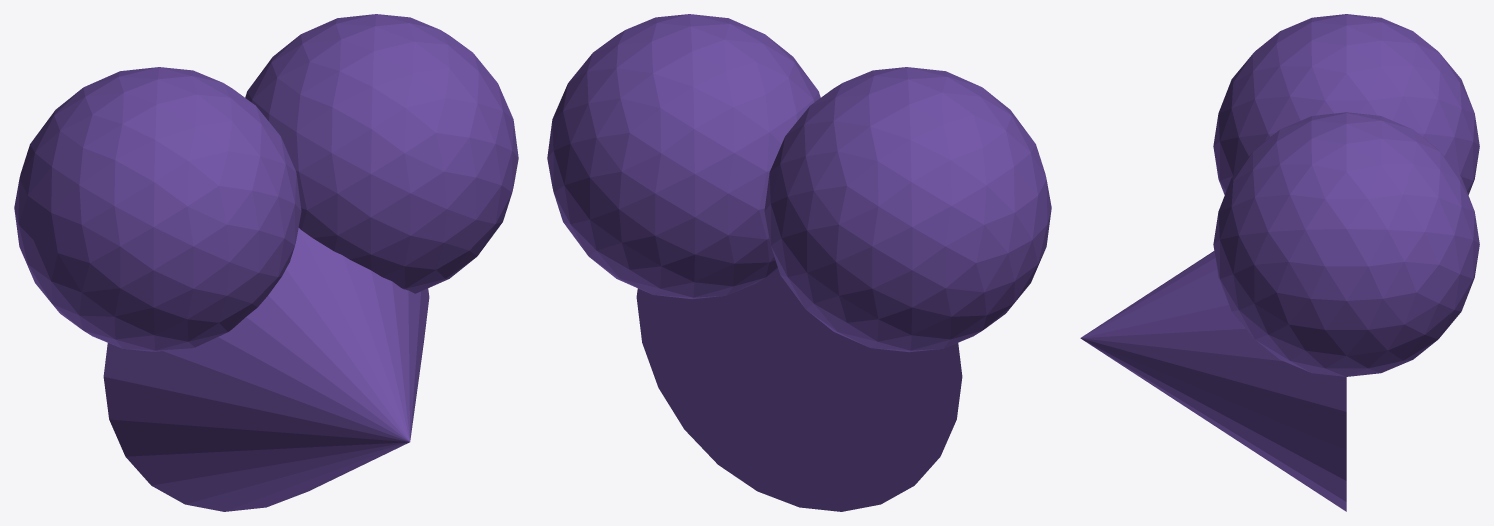
File: love_012.glb
The picture shows the model from 3 angles, left to right: view 1: azimuth 30°, elevation 25°; view 2: azimuth 150°, elevation 25°; view 3: azimuth 270°, elevation 25°; orthographic projection. The views are drawn at different scales.
Parts seen in each view (by area): view 1: world; view 2: world; view 3: world.
Part boxes in pixels (x1,y1,x2,y2): world: (14, 14, 518, 511); world: (547, 14, 1051, 511); world: (1080, 14, 1479, 511).
Bounding box in the file's own units: 2.06 × 1.92 × 1.65.
